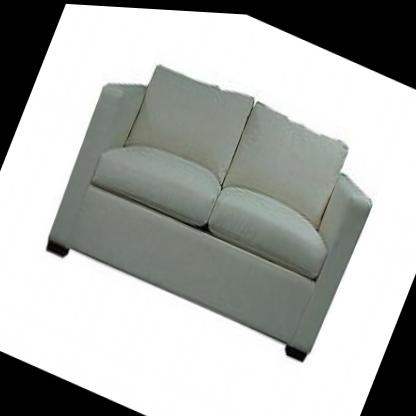Sofa: (40, 36, 388, 365)
